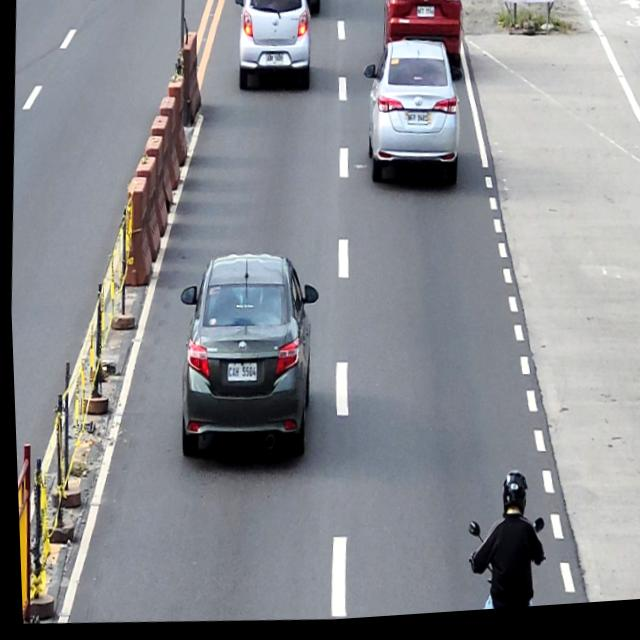Car: (168, 248, 323, 467), (356, 38, 465, 195), (229, 0, 315, 98), (373, 0, 468, 87)
License-Plate: (222, 362, 256, 387), (405, 115, 429, 132), (416, 11, 435, 25), (264, 56, 283, 70)
Motorcycle: (458, 519, 544, 617)
